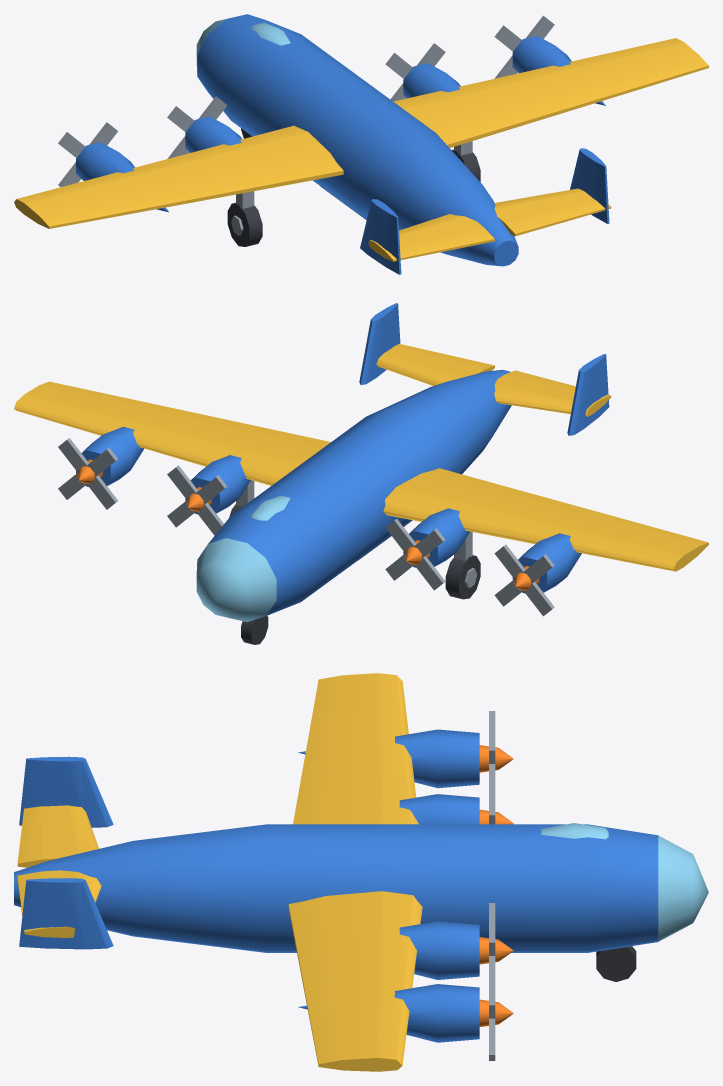
Rendered from unit-bomber.glb.
The picture shows the model from 3 angles, top to bottom: view 1: azimuth 30°, elevation 25°; view 2: azimuth 150°, elevation 25°; view 3: azimuth 270°, elevation 25°; orthographic projection. The views are drawn at different scales.
Parts seen in each view (by area): view 1: wings, fuselage, fins, propeller (×4), wheel, gear; view 2: wings, fuselage, fins, propeller (×4), wheel (×2), gear; view 3: fuselage, wings, fins, propeller (×4), wheel.
Boxes of the visible parts, x1,y1,x2,y2 form: wings: (14, 35, 708, 228); fuselage: (196, 14, 518, 266); fins: (360, 148, 611, 274); propeller (×4): (58, 15, 554, 186); wheel: (227, 202, 262, 246); gear: (236, 141, 472, 208); wings: (14, 381, 708, 593); fuselage: (196, 370, 511, 621); fins: (359, 303, 611, 435); propeller (×4): (58, 438, 554, 616); wheel (×2): (241, 555, 480, 644); gear: (236, 480, 472, 561); fuselage: (14, 823, 708, 952); wings: (288, 673, 479, 1071); fins: (17, 756, 113, 949); propeller (×4): (479, 711, 513, 1060); wheel: (596, 946, 636, 981).
Size of the model in its own units: 26 by 5.04 by 19.85.
